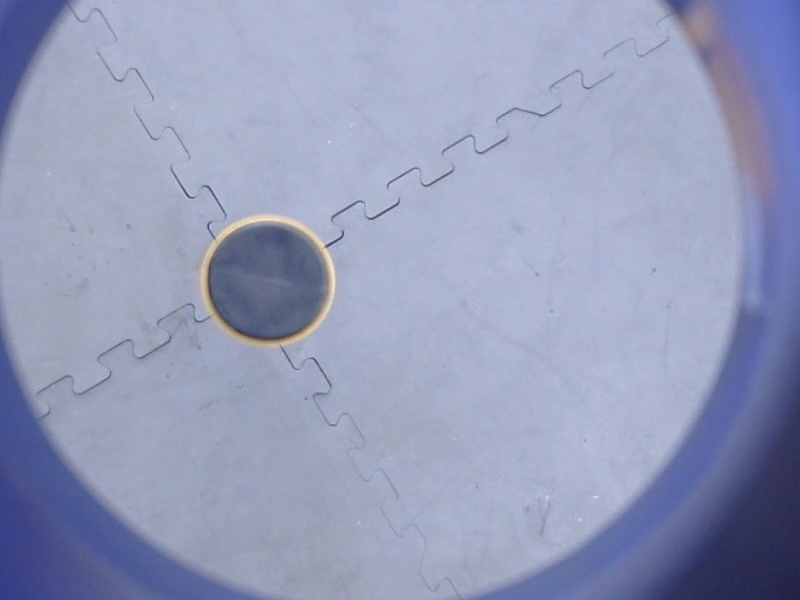tip: (190, 206, 345, 355)
